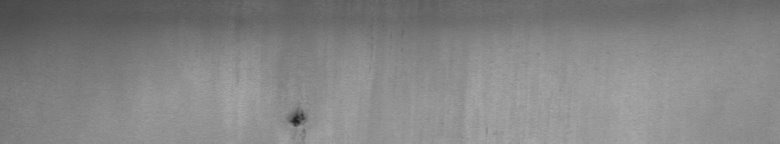fi: (284, 101, 308, 136)
